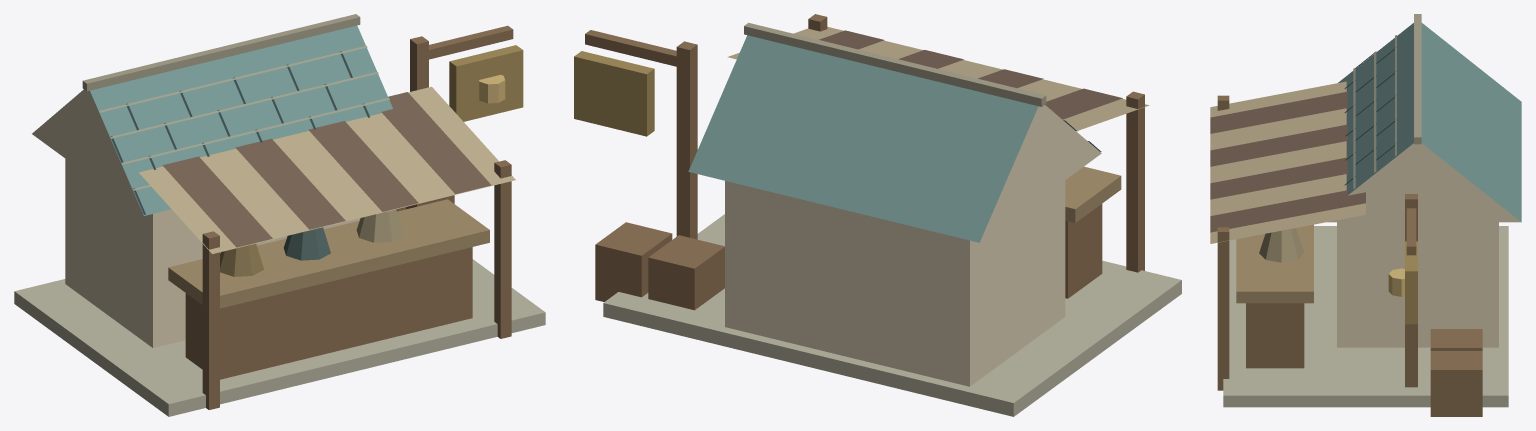
The model's file is shop.glb.
The picture shows the model from 3 angles, left to right: view 1: azimuth 30°, elevation 25°; view 2: azimuth 150°, elevation 25°; view 3: azimuth 270°, elevation 25°; orthographic projection. The views are drawn at different scales.
Parts seen in each view (by area): view 1: Building; view 2: Building; view 3: Building.
Part boxes in pixels (box(x1,y1,x2,y2)): Building: box(14, 14, 545, 416); Building: box(574, 14, 1181, 416); Building: box(1210, 14, 1521, 416).
Size of the model in its own units: 74.5 by 39.7 by 48.
